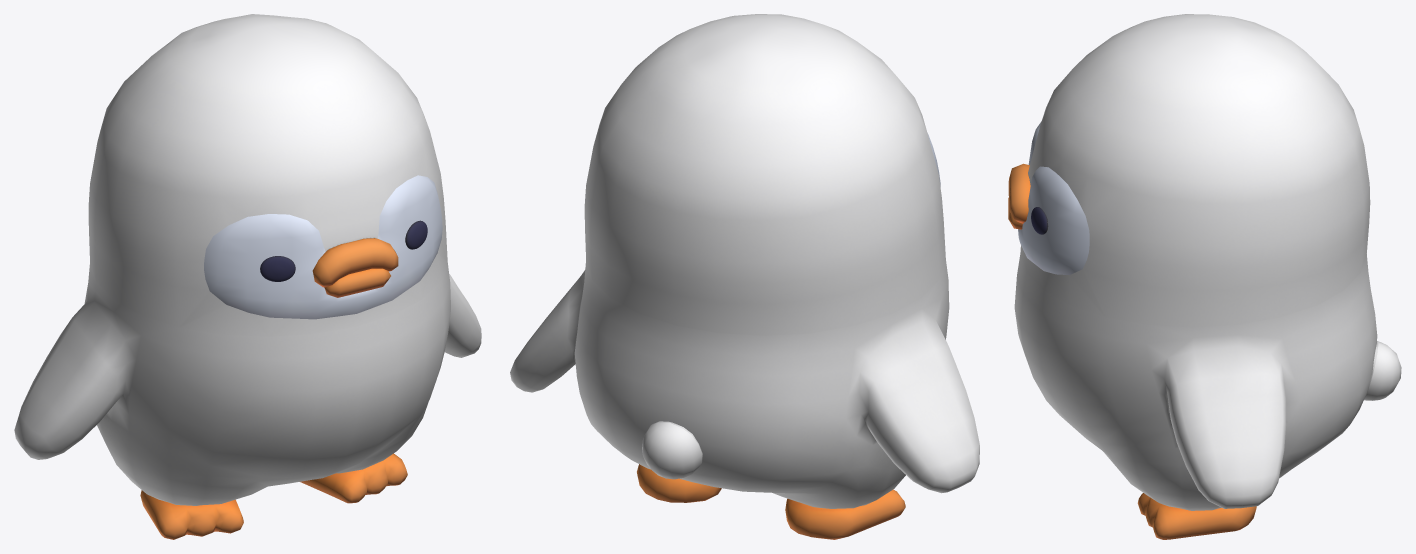
The model's file is Party_Penguin02.fbx.
The picture shows the model from 3 angles, left to right: view 1: azimuth 30°, elevation 25°; view 2: azimuth 150°, elevation 25°; view 3: azimuth 270°, elevation 25°; orthographic projection. The views are drawn at different scales.
Parts seen in each view (by area): view 1: Party_Penguin_body02; view 2: Party_Penguin_body02; view 3: Party_Penguin_body02.
Part boxes in pixels (left/top/right/bottom): Party_Penguin_body02: left=14, top=14, right=481, bottom=539; Party_Penguin_body02: left=510, top=14, right=979, bottom=539; Party_Penguin_body02: left=1008, top=14, right=1401, bottom=539.
Size of the model in its own units: 177 by 174 by 136.
